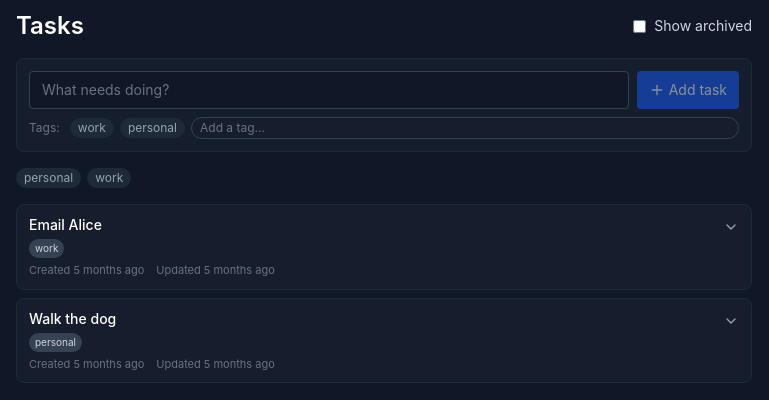
it: Tasks – tag filter › filters the visible list when a tag chip is clicked
Expected: the text "Email Alice" is shown, [29,215,102,235]
Expected: the text "Walk the dog" is shown, [29,308,116,328]
What coordinates should you click on to do the following:
click the 2nd button "work"
I would click on:
 (109, 178)
Its box is [87,168,131,188].
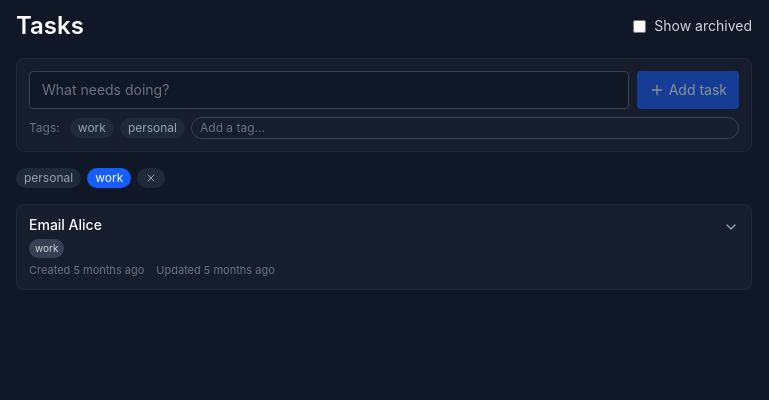
Expected: the text "Email Alice" is shown, [29,215,102,235]
Expected: the button "Walk the dog" is gone
